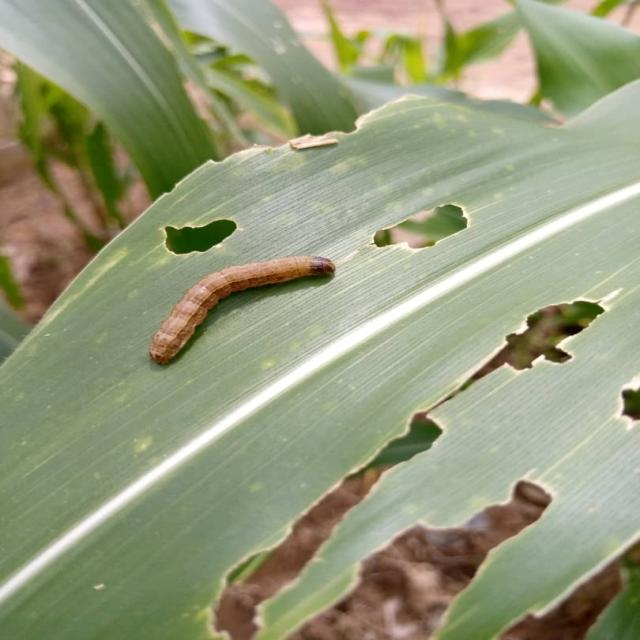yellow-stem-borer-larva: (133, 215, 370, 379)
